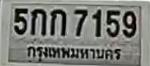1: (92, 9, 100, 36)
5: (13, 7, 27, 34), (106, 10, 119, 37)
7: (73, 8, 87, 35)
9: (122, 10, 135, 37)
A01: (30, 8, 46, 35), (49, 8, 65, 35)
BKK: (25, 42, 123, 62)
